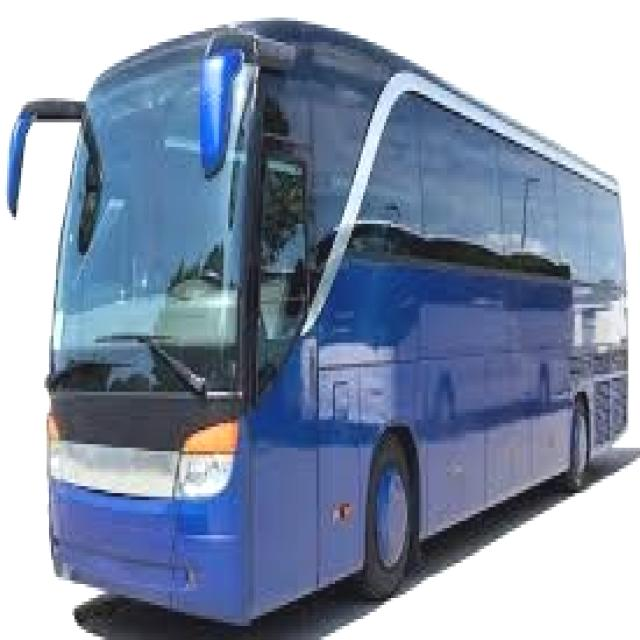bus: (1, 4, 640, 640)
